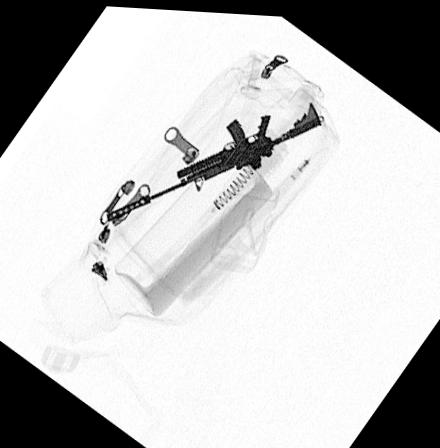Gun: (104, 97, 321, 221)
